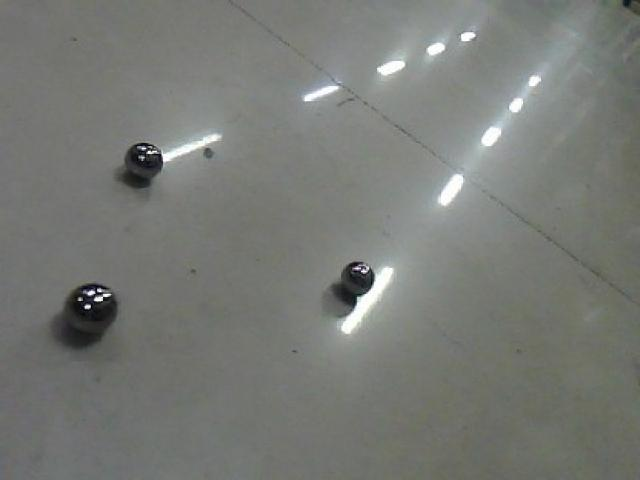steel-ball: (52, 269, 125, 329), (112, 120, 166, 182), (321, 243, 374, 300)
